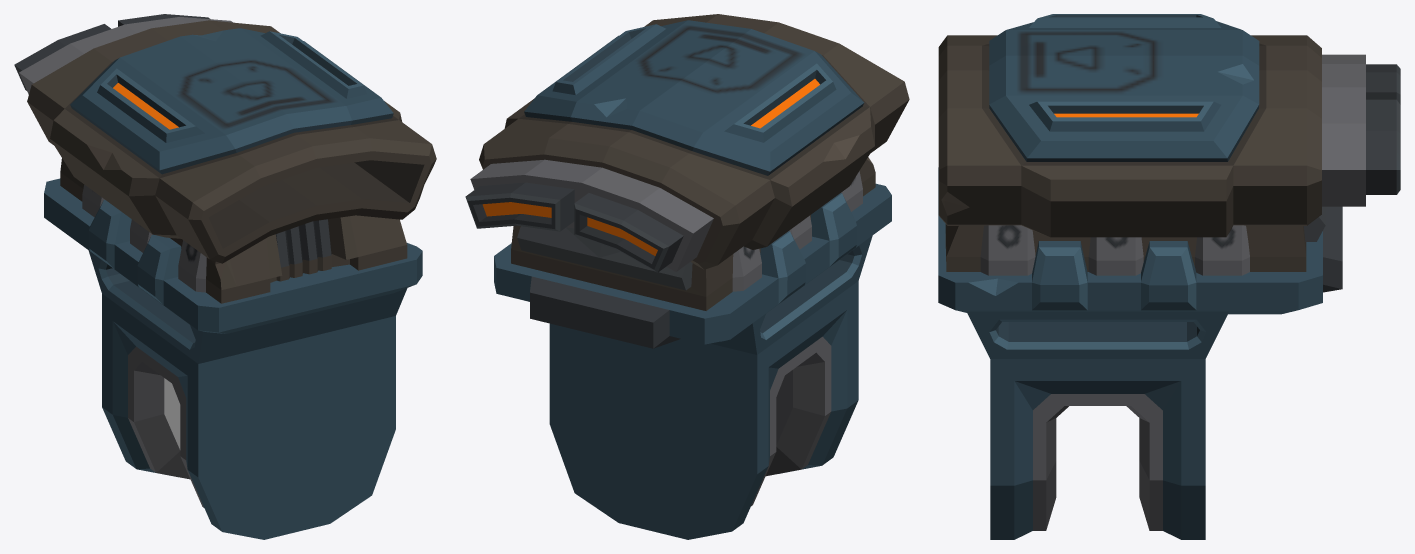
File: SM_Mech_Arm_01_Weapon_Forearm_06_Empty.fbx
3 renders of one model, left to right at view 1: azimuth 30°, elevation 25°; view 2: azimuth 150°, elevation 25°; view 3: azimuth 270°, elevation 25°, orthographic. The views are drawn at different scales.
Parts seen in each view (by area): view 1: SM_Mech_Arm_01_Weapon_Forearm_06_Empty; view 2: SM_Mech_Arm_01_Weapon_Forearm_06_Empty; view 3: SM_Mech_Arm_01_Weapon_Forearm_06_Empty.
Part boxes in pixels (left/top/right/bottom): SM_Mech_Arm_01_Weapon_Forearm_06_Empty: left=14, top=14, right=436, bottom=539; SM_Mech_Arm_01_Weapon_Forearm_06_Empty: left=465, top=14, right=909, bottom=539; SM_Mech_Arm_01_Weapon_Forearm_06_Empty: left=938, top=14, right=1400, bottom=539.
Size of the model in its own units: 55.64 by 79.93 by 72.53.
